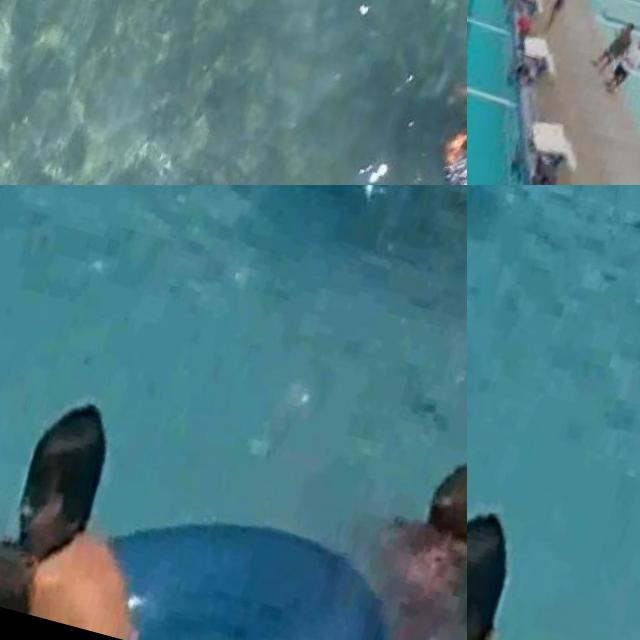drowning: (278, 386, 467, 640)
out of water: (595, 20, 630, 76), (614, 32, 640, 97), (548, 0, 572, 28)
swimming: (0, 392, 170, 636), (467, 444, 580, 640), (410, 68, 467, 185)
